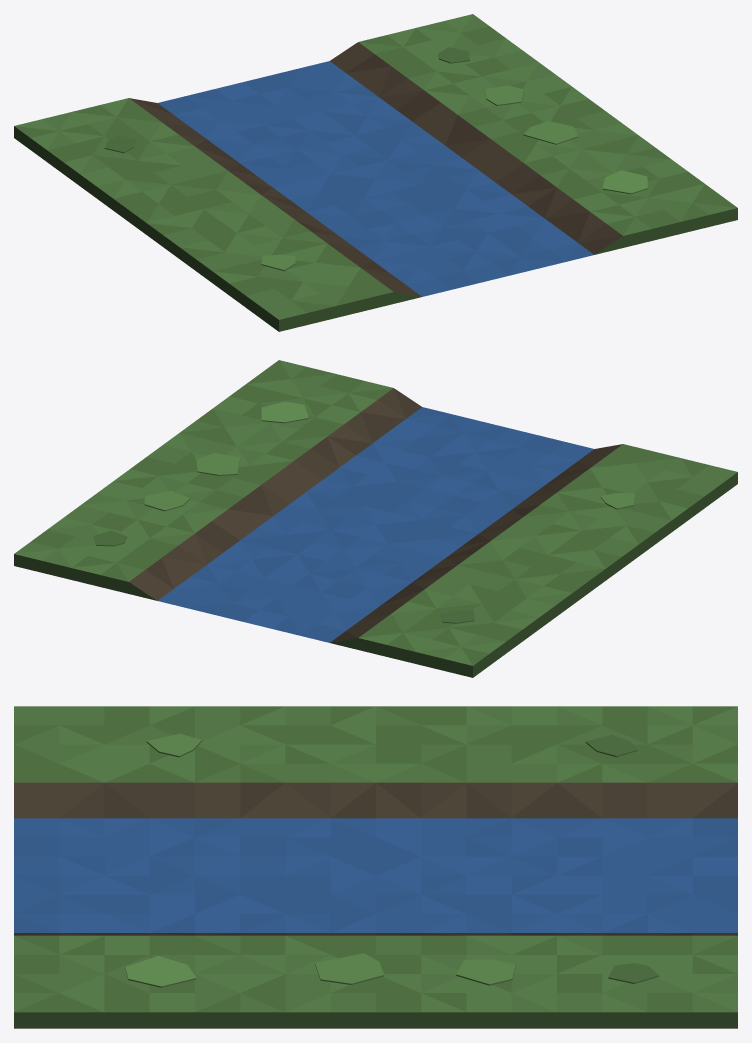
The model's file is river_straight_grass.glb.
3 views of the same model, one above another, from view 1: azimuth 30°, elevation 25°; view 2: azimuth 150°, elevation 25°; view 3: azimuth 270°, elevation 25° (orthographic). The views are drawn at different scales.
Visible parts, largest first — view 1: river_straight_grass; view 2: river_straight_grass; view 3: river_straight_grass.
Part boxes in pixels (x1=…): river_straight_grass: x1=14, y1=14, x2=737, y2=331; river_straight_grass: x1=14, y1=360, x2=737, y2=677; river_straight_grass: x1=14, y1=706, x2=737, y2=1028.
Bounding box in the file's own units: 4 × 0.108 × 4.
